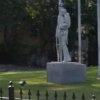Statue: (47, 2, 82, 70)
